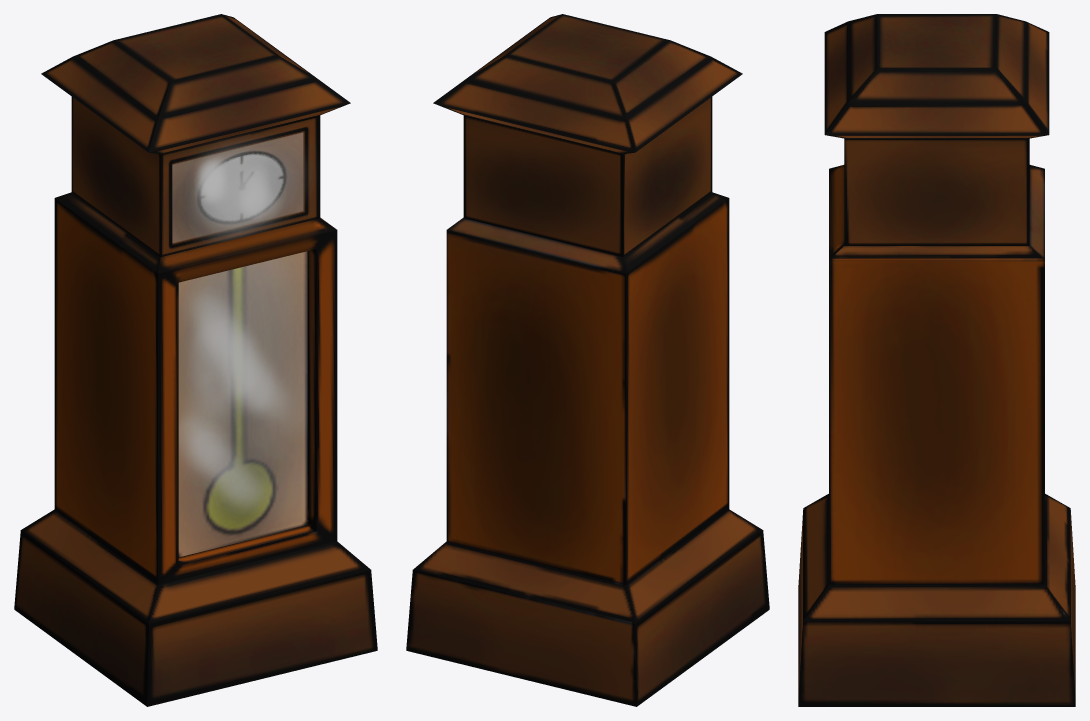
Rendered from Grandfarhter clock.fbx.
3 views of the same model, side by side, from view 1: azimuth 30°, elevation 25°; view 2: azimuth 150°, elevation 25°; view 3: azimuth 270°, elevation 25° (orthographic). The views are drawn at different scales.
Visible parts, largest first — view 1: pCube13; view 2: pCube13; view 3: pCube13.
Boxes of the visible parts, <box> form: pCube13: <box>14,14,377,706</box>; pCube13: <box>406,14,769,706</box>; pCube13: <box>798,14,1075,706</box>.
Bounding box in the file's own units: 1.29 × 3.1 × 1.29.
Materials: 1 (1 with a texture image).
